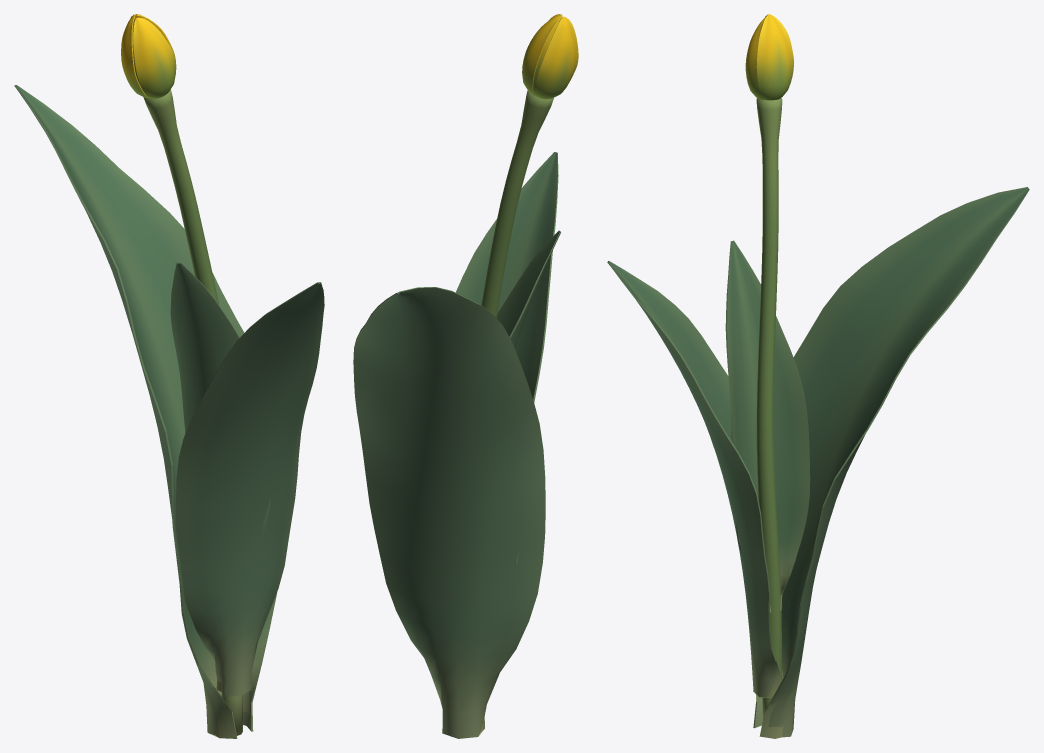
Rendered from bud-yellow.glb.
3 renders of one model, left to right at view 1: azimuth 30°, elevation 25°; view 2: azimuth 150°, elevation 25°; view 3: azimuth 270°, elevation 25°, orthographic. The views are drawn at different scales.
Parts seen in each view (by area): view 1: tulip-bud-yellow; view 2: tulip-bud-yellow; view 3: tulip-bud-yellow.
Boxes of the visible parts, left/top/right/bottom form: tulip-bud-yellow: left=14, top=14, right=324, bottom=738; tulip-bud-yellow: left=353, top=14, right=578, bottom=738; tulip-bud-yellow: left=607, top=14, right=1029, bottom=738.
Bounding box in the file's own units: 0.0781 × 0.3028 × 0.1718.
